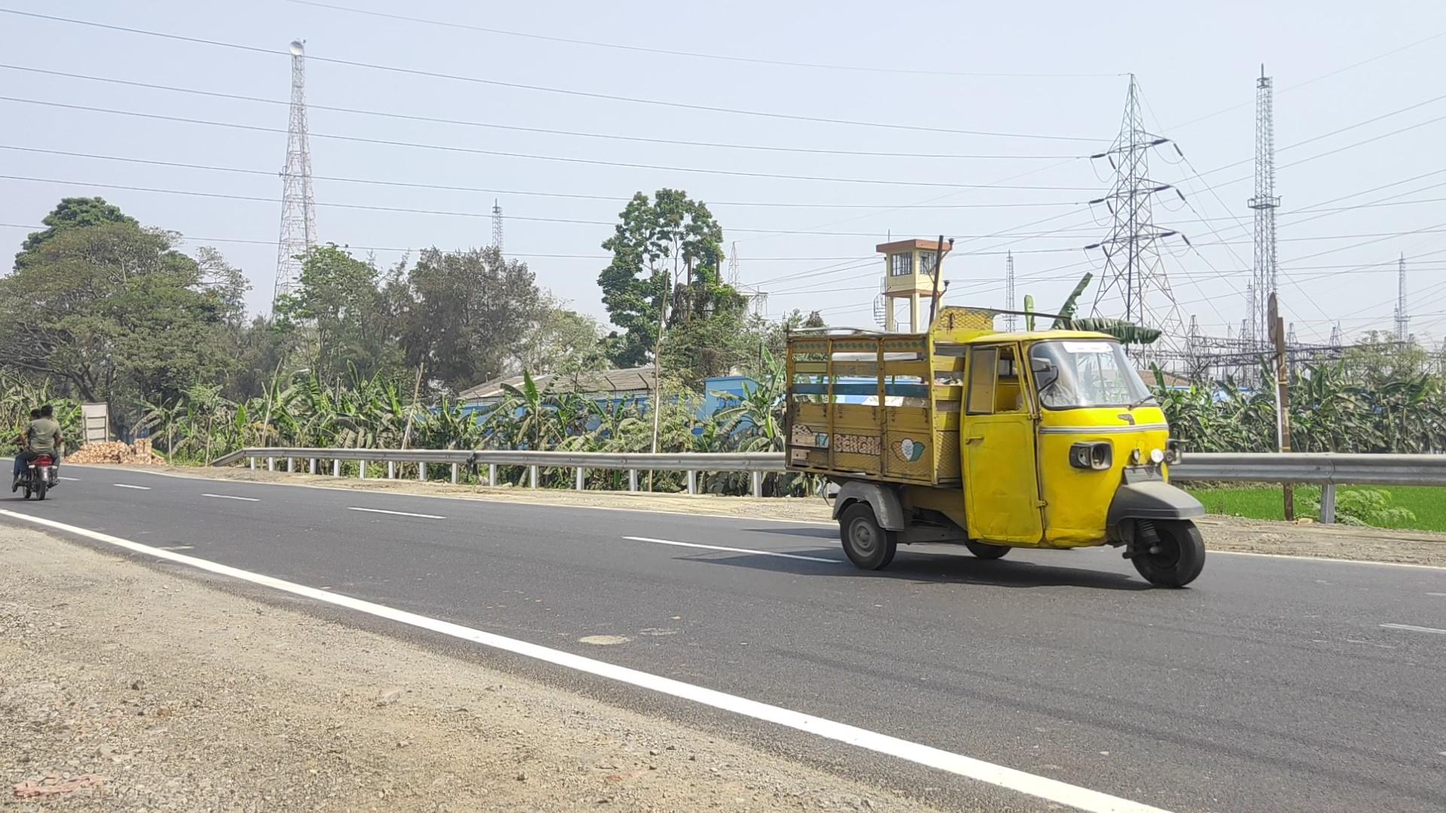bike: (11, 404, 63, 501)
van: (785, 305, 1207, 588)
